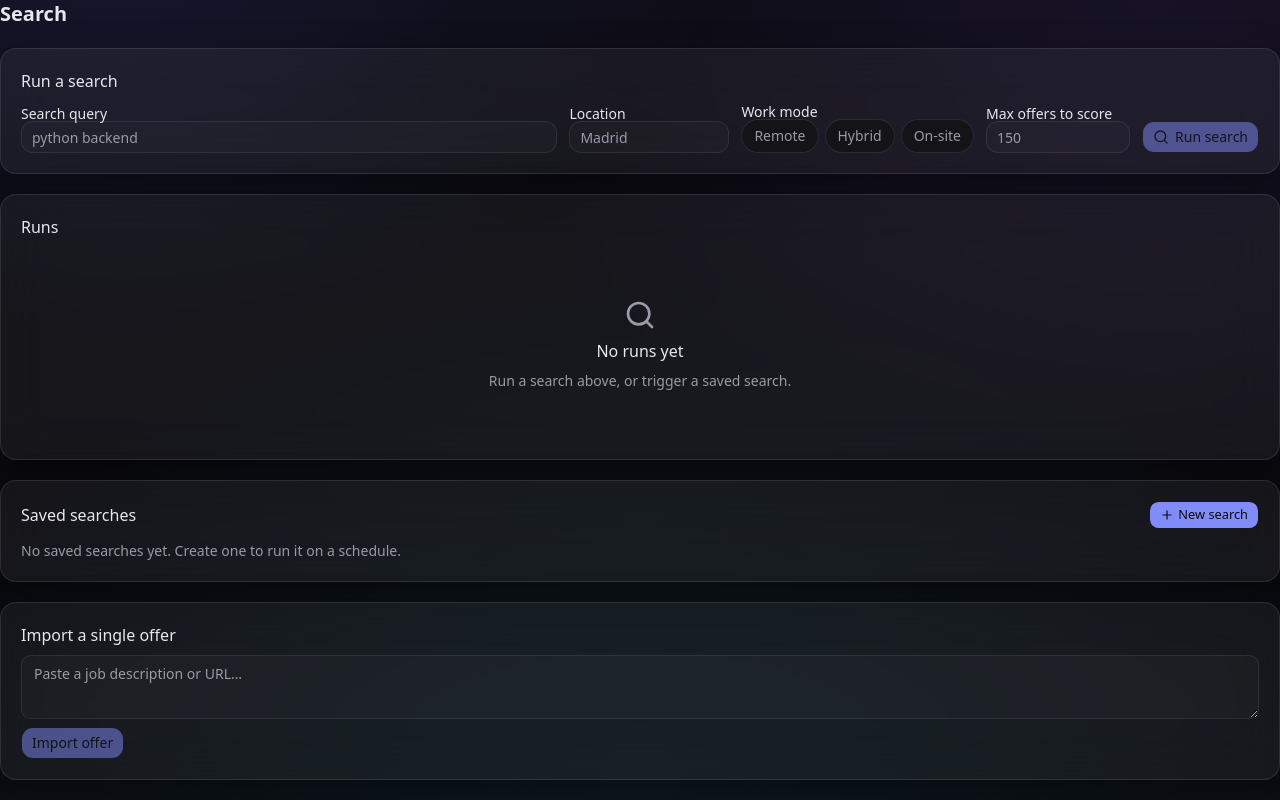
the cap lowers the projected spend
This screenshot has width=1280, height=800.
Step 1. Type "python" into the field labelled "Search query" → (289, 137), box [21,121,557,153]
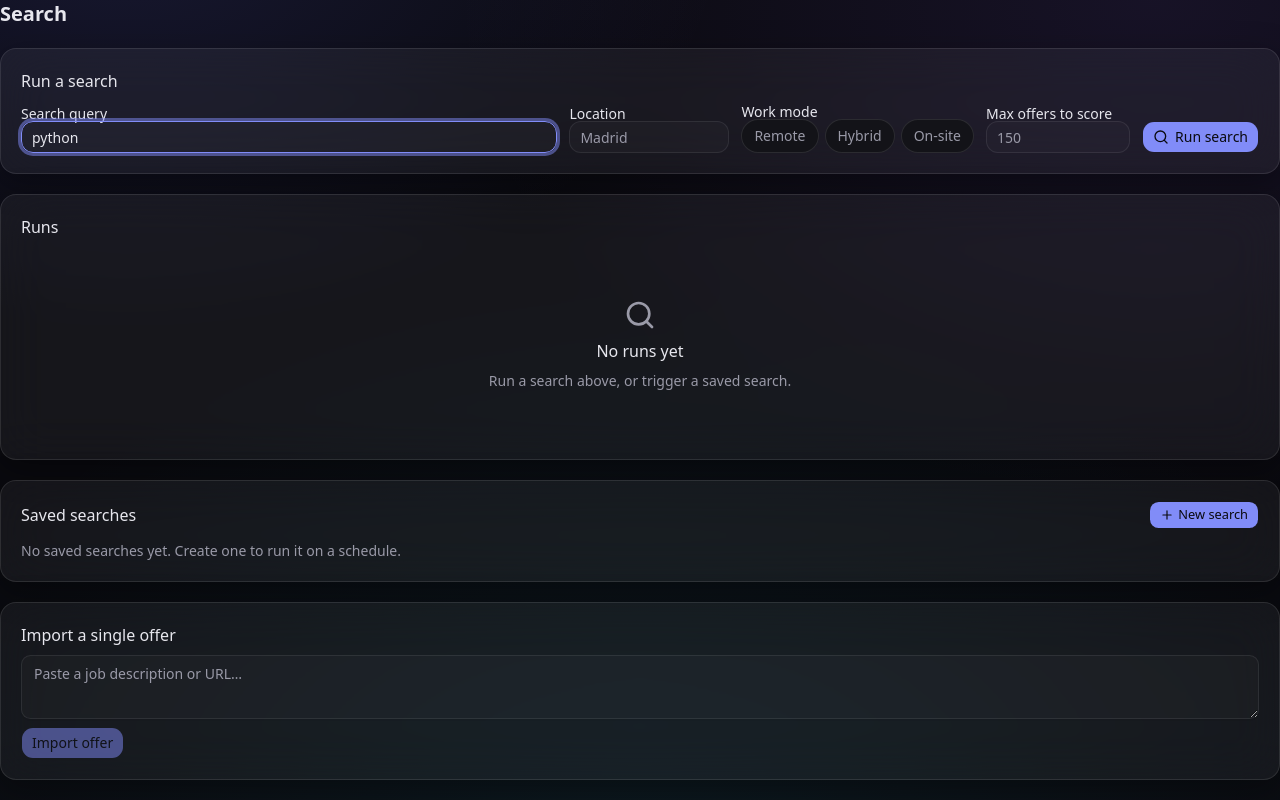
Step 2. Type "10" into the field labelled "Max offers to score" → (1058, 137), box [986,121,1130,153]
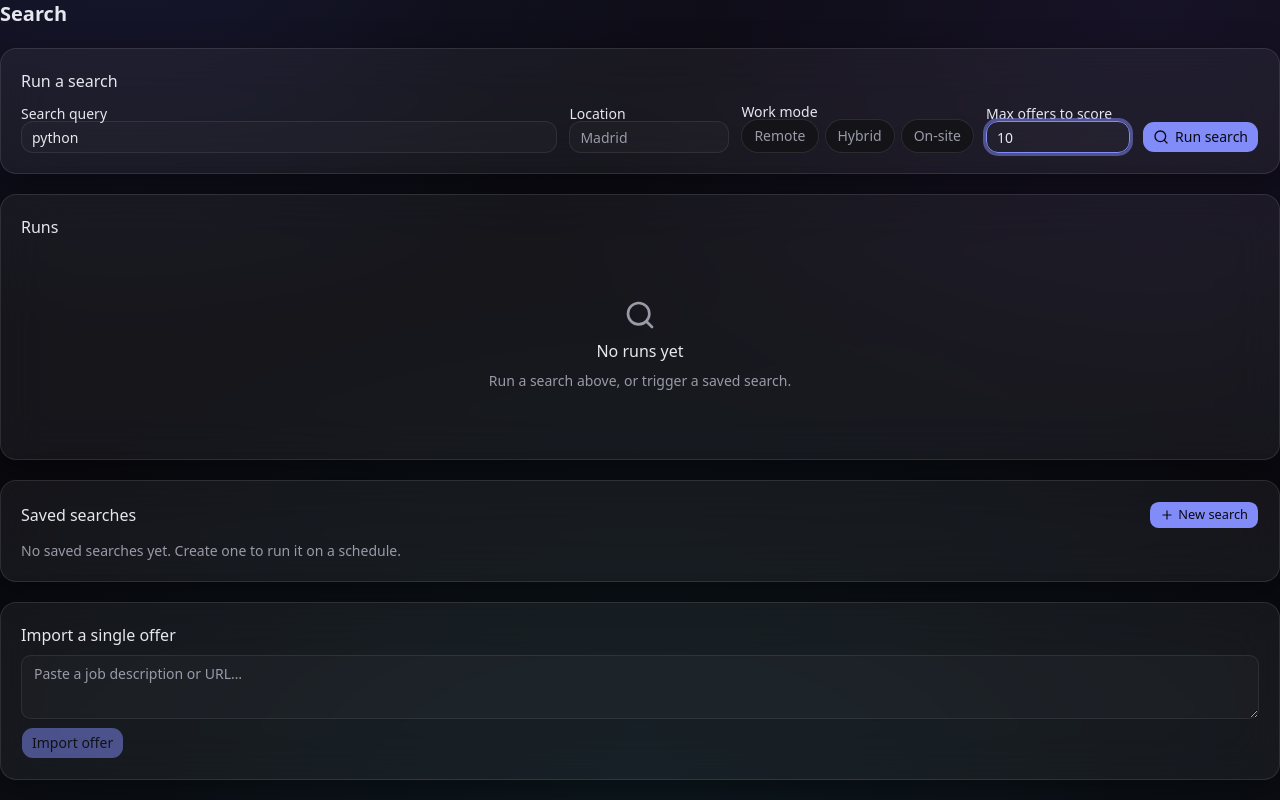
Step 3. Click the button "Run search" → (1200, 137), box [1142,121,1259,153]
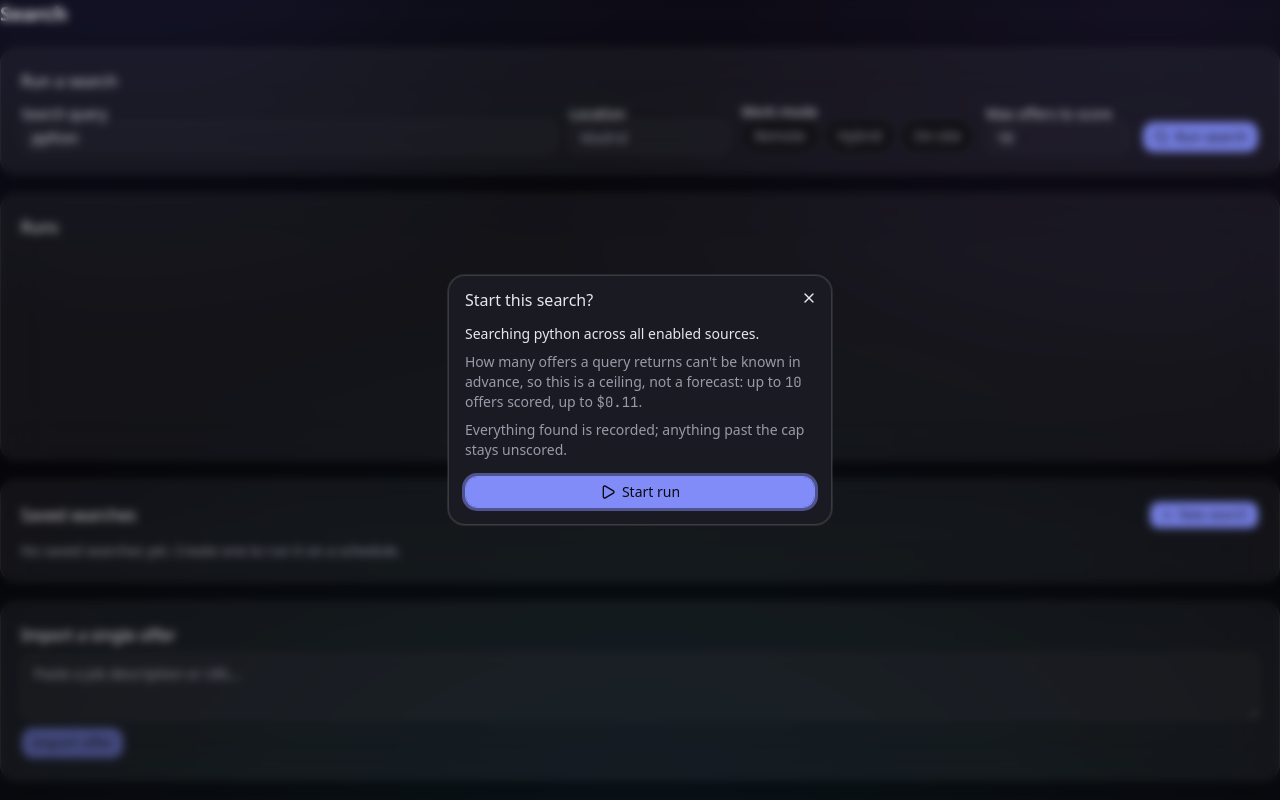
Now the text "$0.11" is shown, box [596,393,638,411]
